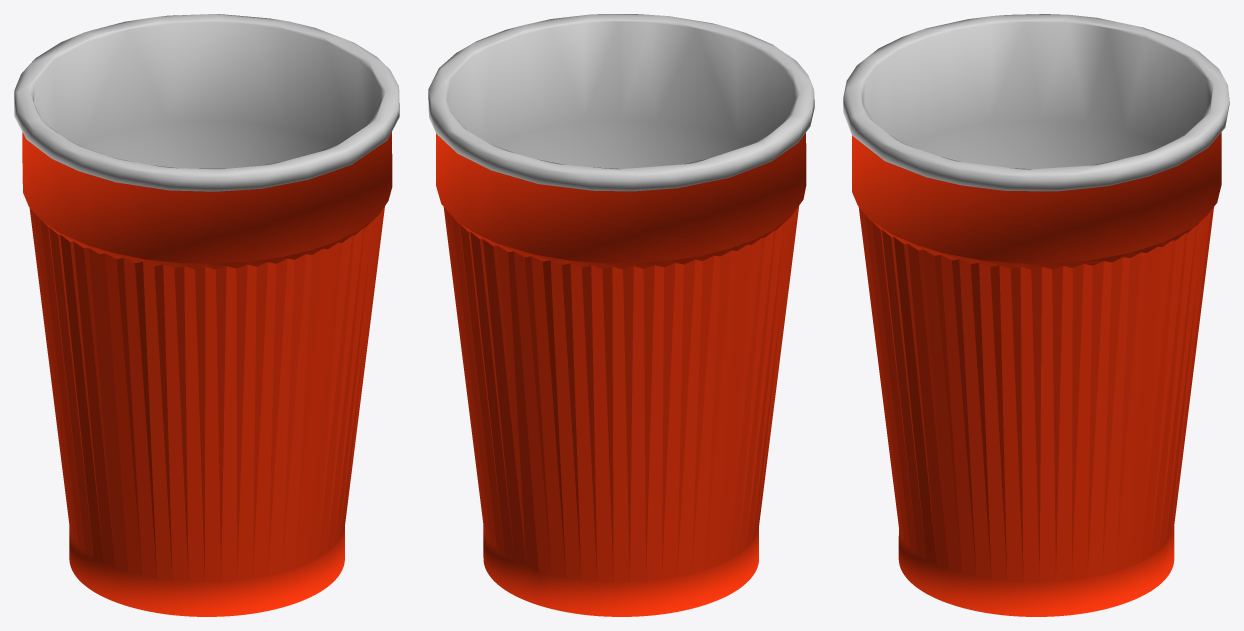
Rendered from Muovikuppi.fbx.
3 renders of one model, left to right at view 1: azimuth 30°, elevation 25°; view 2: azimuth 150°, elevation 25°; view 3: azimuth 270°, elevation 25°, orthographic.
Parts seen in each view (by area): view 1: Muovikippo; view 2: Muovikippo; view 3: Muovikippo.
Part boxes in pixels (x1,y1,x2,y2): Muovikippo: (14,14,399,616); Muovikippo: (428,14,814,616); Muovikippo: (843,14,1229,616).
Bounding box in the file's own units: 8.25 × 10.96 × 8.26.
